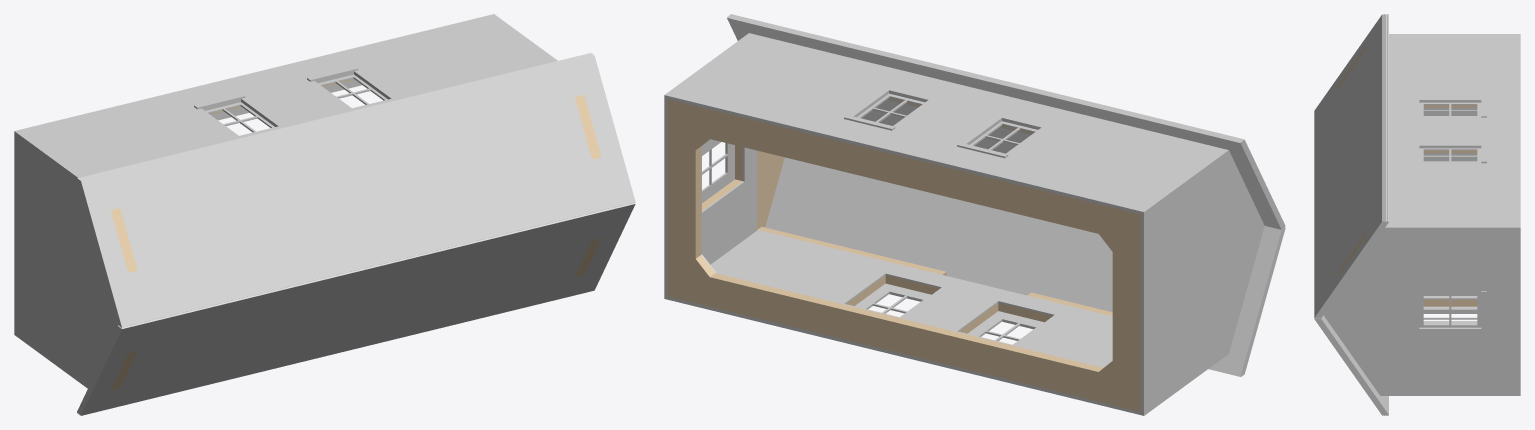
The picture shows the model from 3 angles, left to right: view 1: azimuth 30°, elevation 25°; view 2: azimuth 150°, elevation 25°; view 3: azimuth 270°, elevation 25°; orthographic projection. The views are drawn at different scales.
Visible parts, largest first — view 1: house_c6_front_roof_p3_p3_part, house_c5_back_roof_p3_p3_part, house_c1_front_wall_p1_outside_wall_part, house_c4_left_wall_p1_outside_wall_part, house_c6_front_roof_p1_p1_part, house_c6_front_roof_p0_p0_part, house_c6_front_roof_p2_p2_part, house_c4_left_wall_p0_base_wall_part, house_c3_right_wall_p0_base_wall_part; view 2: house_c1_front_wall_p1_outside_wall_part, house_c0_floor_p0_base_floor_part, house_c5_back_roof_p0_p0_part, house_c4_left_wall_p1_outside_wall_part, house_c2_back_wall_p2_inside_wall_part, house_c6_front_roof_p0_p0_part, house_c2_back_wall_p0_base_wall_part, house_c1_front_wall_p0_base_wall_part, house_c3_right_wall_p2_inside_wall_part, house_c3_right_wall_p0_base_wall_part, house_c2_back_wall_p1_outside_wall_part, house_c3_right_wall_p1_outside_wall_part (+8 smaller); view 3: house_c3_right_wall_p1_outside_wall_part, house_c1_front_wall_p1_outside_wall_part, house_c6_front_roof_p3_p3_part, house_c3_right_wall_c0_window_p0_frame_part, house_c6_front_roof_p2_p2_part, house_c6_front_roof_p1_p1_part, house_c5_back_roof_p0_p0_part, house_c6_front_roof_p0_p0_part, house_c4_left_wall_p2_inside_wall_part, house_c1_front_wall_c1_window_p0_frame_part, house_c1_front_wall_c0_window_p0_frame_part, house_c2_back_wall_p2_inside_wall_part (+9 smaller).
Boxes of the visible parts, x1,y1,x2,y2 form: house_c6_front_roof_p3_p3_part: (80, 55, 635, 327); house_c5_back_roof_p3_p3_part: (80, 202, 635, 415); house_c1_front_wall_p1_outside_wall_part: (18, 15, 554, 176); house_c4_left_wall_p1_outside_wall_part: (14, 130, 117, 388); house_c6_front_roof_p1_p1_part: (78, 53, 592, 325); house_c6_front_roof_p0_p0_part: (77, 53, 591, 325); house_c6_front_roof_p2_p2_part: (79, 54, 593, 326); house_c4_left_wall_p0_base_wall_part: (110, 208, 137, 390); house_c3_right_wall_p0_base_wall_part: (574, 95, 601, 277); house_c1_front_wall_p1_outside_wall_part: (667, 34, 1225, 214); house_c0_floor_p0_base_floor_part: (667, 111, 1140, 399); house_c5_back_roof_p0_p0_part: (765, 157, 1282, 376); house_c4_left_wall_p1_outside_wall_part: (1141, 149, 1264, 415); house_c2_back_wall_p2_inside_wall_part: (710, 230, 1112, 366); house_c6_front_roof_p0_p0_part: (727, 16, 1282, 229); house_c2_back_wall_p0_base_wall_part: (677, 227, 1131, 409); house_c1_front_wall_p0_base_wall_part: (677, 97, 1131, 221); house_c3_right_wall_p2_inside_wall_part: (702, 139, 757, 264); house_c3_right_wall_p0_base_wall_part: (667, 99, 784, 298); house_c2_back_wall_p1_outside_wall_part: (667, 293, 1140, 414); house_c3_right_wall_p1_outside_wall_part: (664, 33, 751, 299); house_c3_right_wall_p1_outside_wall_part: (1323, 226, 1520, 395); house_c1_front_wall_p1_outside_wall_part: (1386, 35, 1520, 226); house_c6_front_roof_p3_p3_part: (1314, 14, 1383, 318); house_c3_right_wall_c0_window_p0_frame_part: (1419, 294, 1481, 327); house_c6_front_roof_p2_p2_part: (1316, 14, 1385, 318); house_c6_front_roof_p1_p1_part: (1318, 14, 1387, 318); house_c5_back_roof_p0_p0_part: (1320, 315, 1388, 415); house_c6_front_roof_p0_p0_part: (1320, 14, 1388, 318); house_c4_left_wall_p2_inside_wall_part: (1423, 109, 1477, 161); house_c1_front_wall_c1_window_p0_frame_part: (1419, 102, 1481, 115); house_c1_front_wall_c0_window_p0_frame_part: (1419, 148, 1481, 161); house_c2_back_wall_p2_inside_wall_part: (1423, 296, 1477, 324).
Size of the model in its own units: 182 by 79.72 by 76.46.
